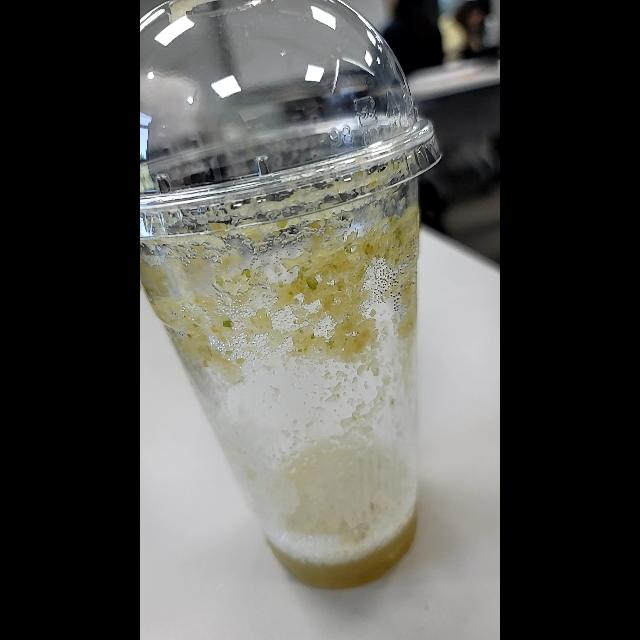plastic_cup: (140, 1, 463, 610)
plastic_cup_lid: (140, 0, 448, 244)
